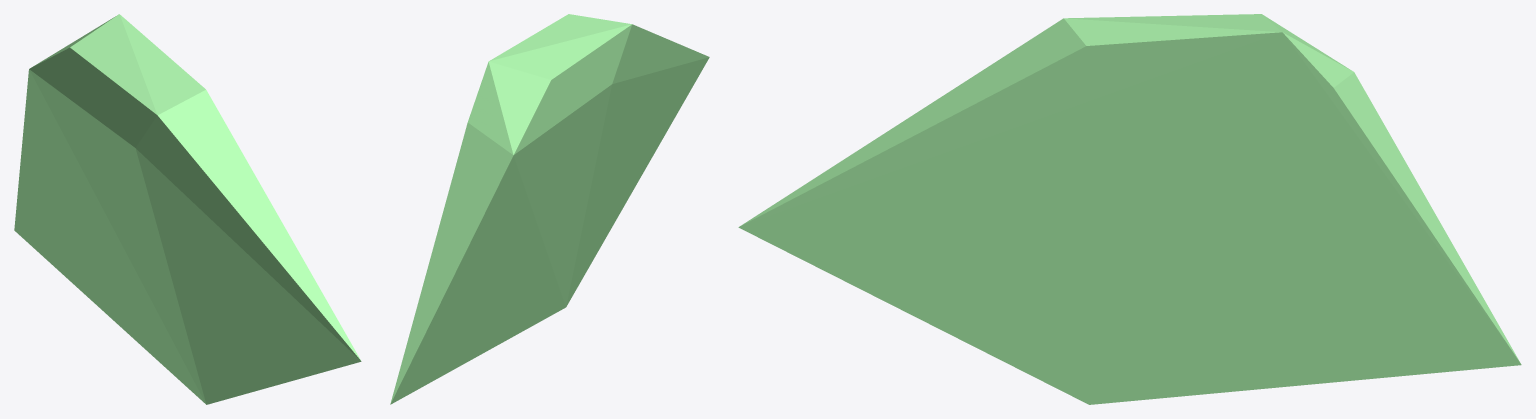
The model's file is linkhou_LR4_R560_link7_respondable_coll_14.dae.
The picture shows the model from 3 angles, left to right: view 1: azimuth 30°, elevation 25°; view 2: azimuth 150°, elevation 25°; view 3: azimuth 270°, elevation 25°; orthographic projection. The views are drawn at different scales.
Visible parts, largest first — view 1: Node_00000209DB3A90B0; view 2: Node_00000209DB3A90B0; view 3: Node_00000209DB3A90B0.
Boxes of the visible parts, x1,y1,x2,y2 form: Node_00000209DB3A90B0: (14, 14, 361, 404); Node_00000209DB3A90B0: (390, 14, 709, 404); Node_00000209DB3A90B0: (738, 14, 1521, 404).
Size of the model in its own units: 0.00308 by 0.016 by 0.0306.
